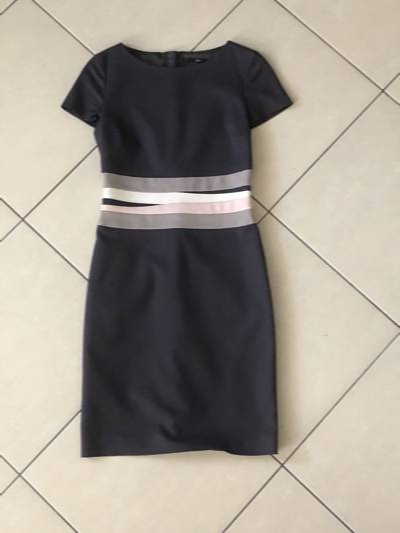Dress: (49, 30, 324, 482)
